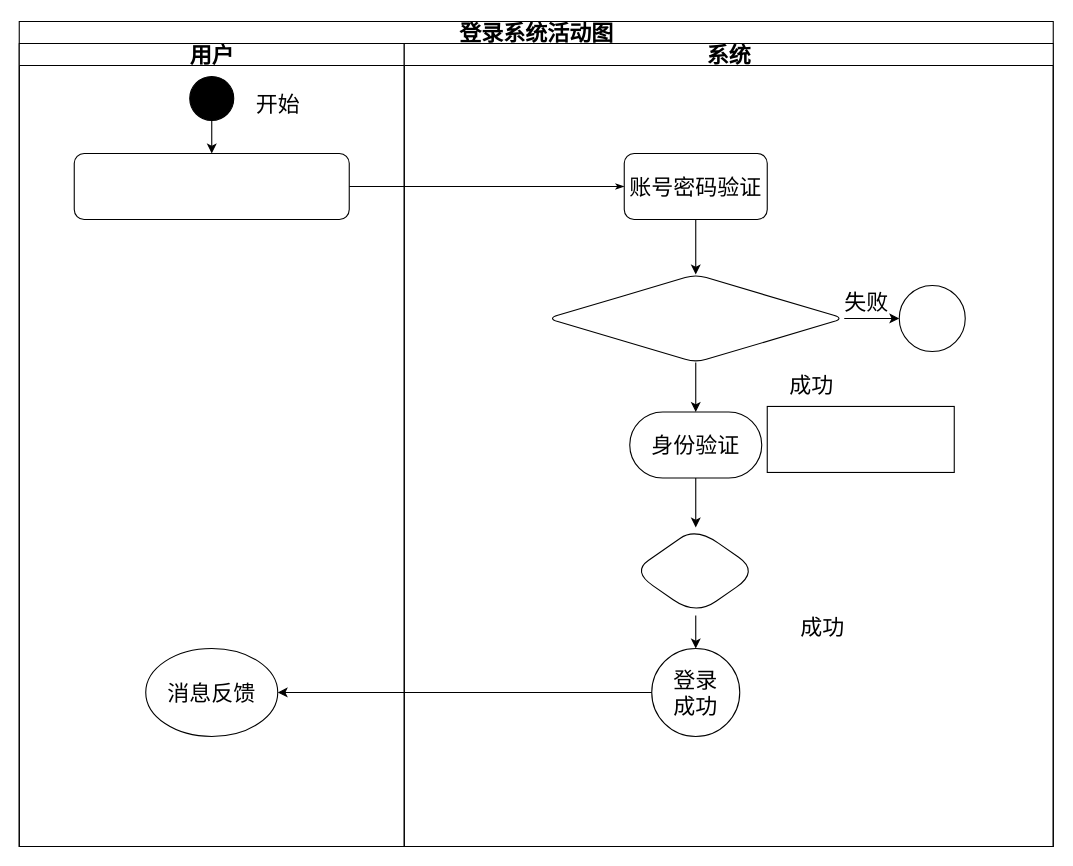
This 1073x866 diagram has some shape labels left out. The centre of each missing label's shape, as x and y in pixels:
是否和数据库进行匹配: point (695, 317)
普通用户/管理员: point (860, 438)
登录失败: point (931, 317)
输入账号/手机+密码: point (211, 185)
